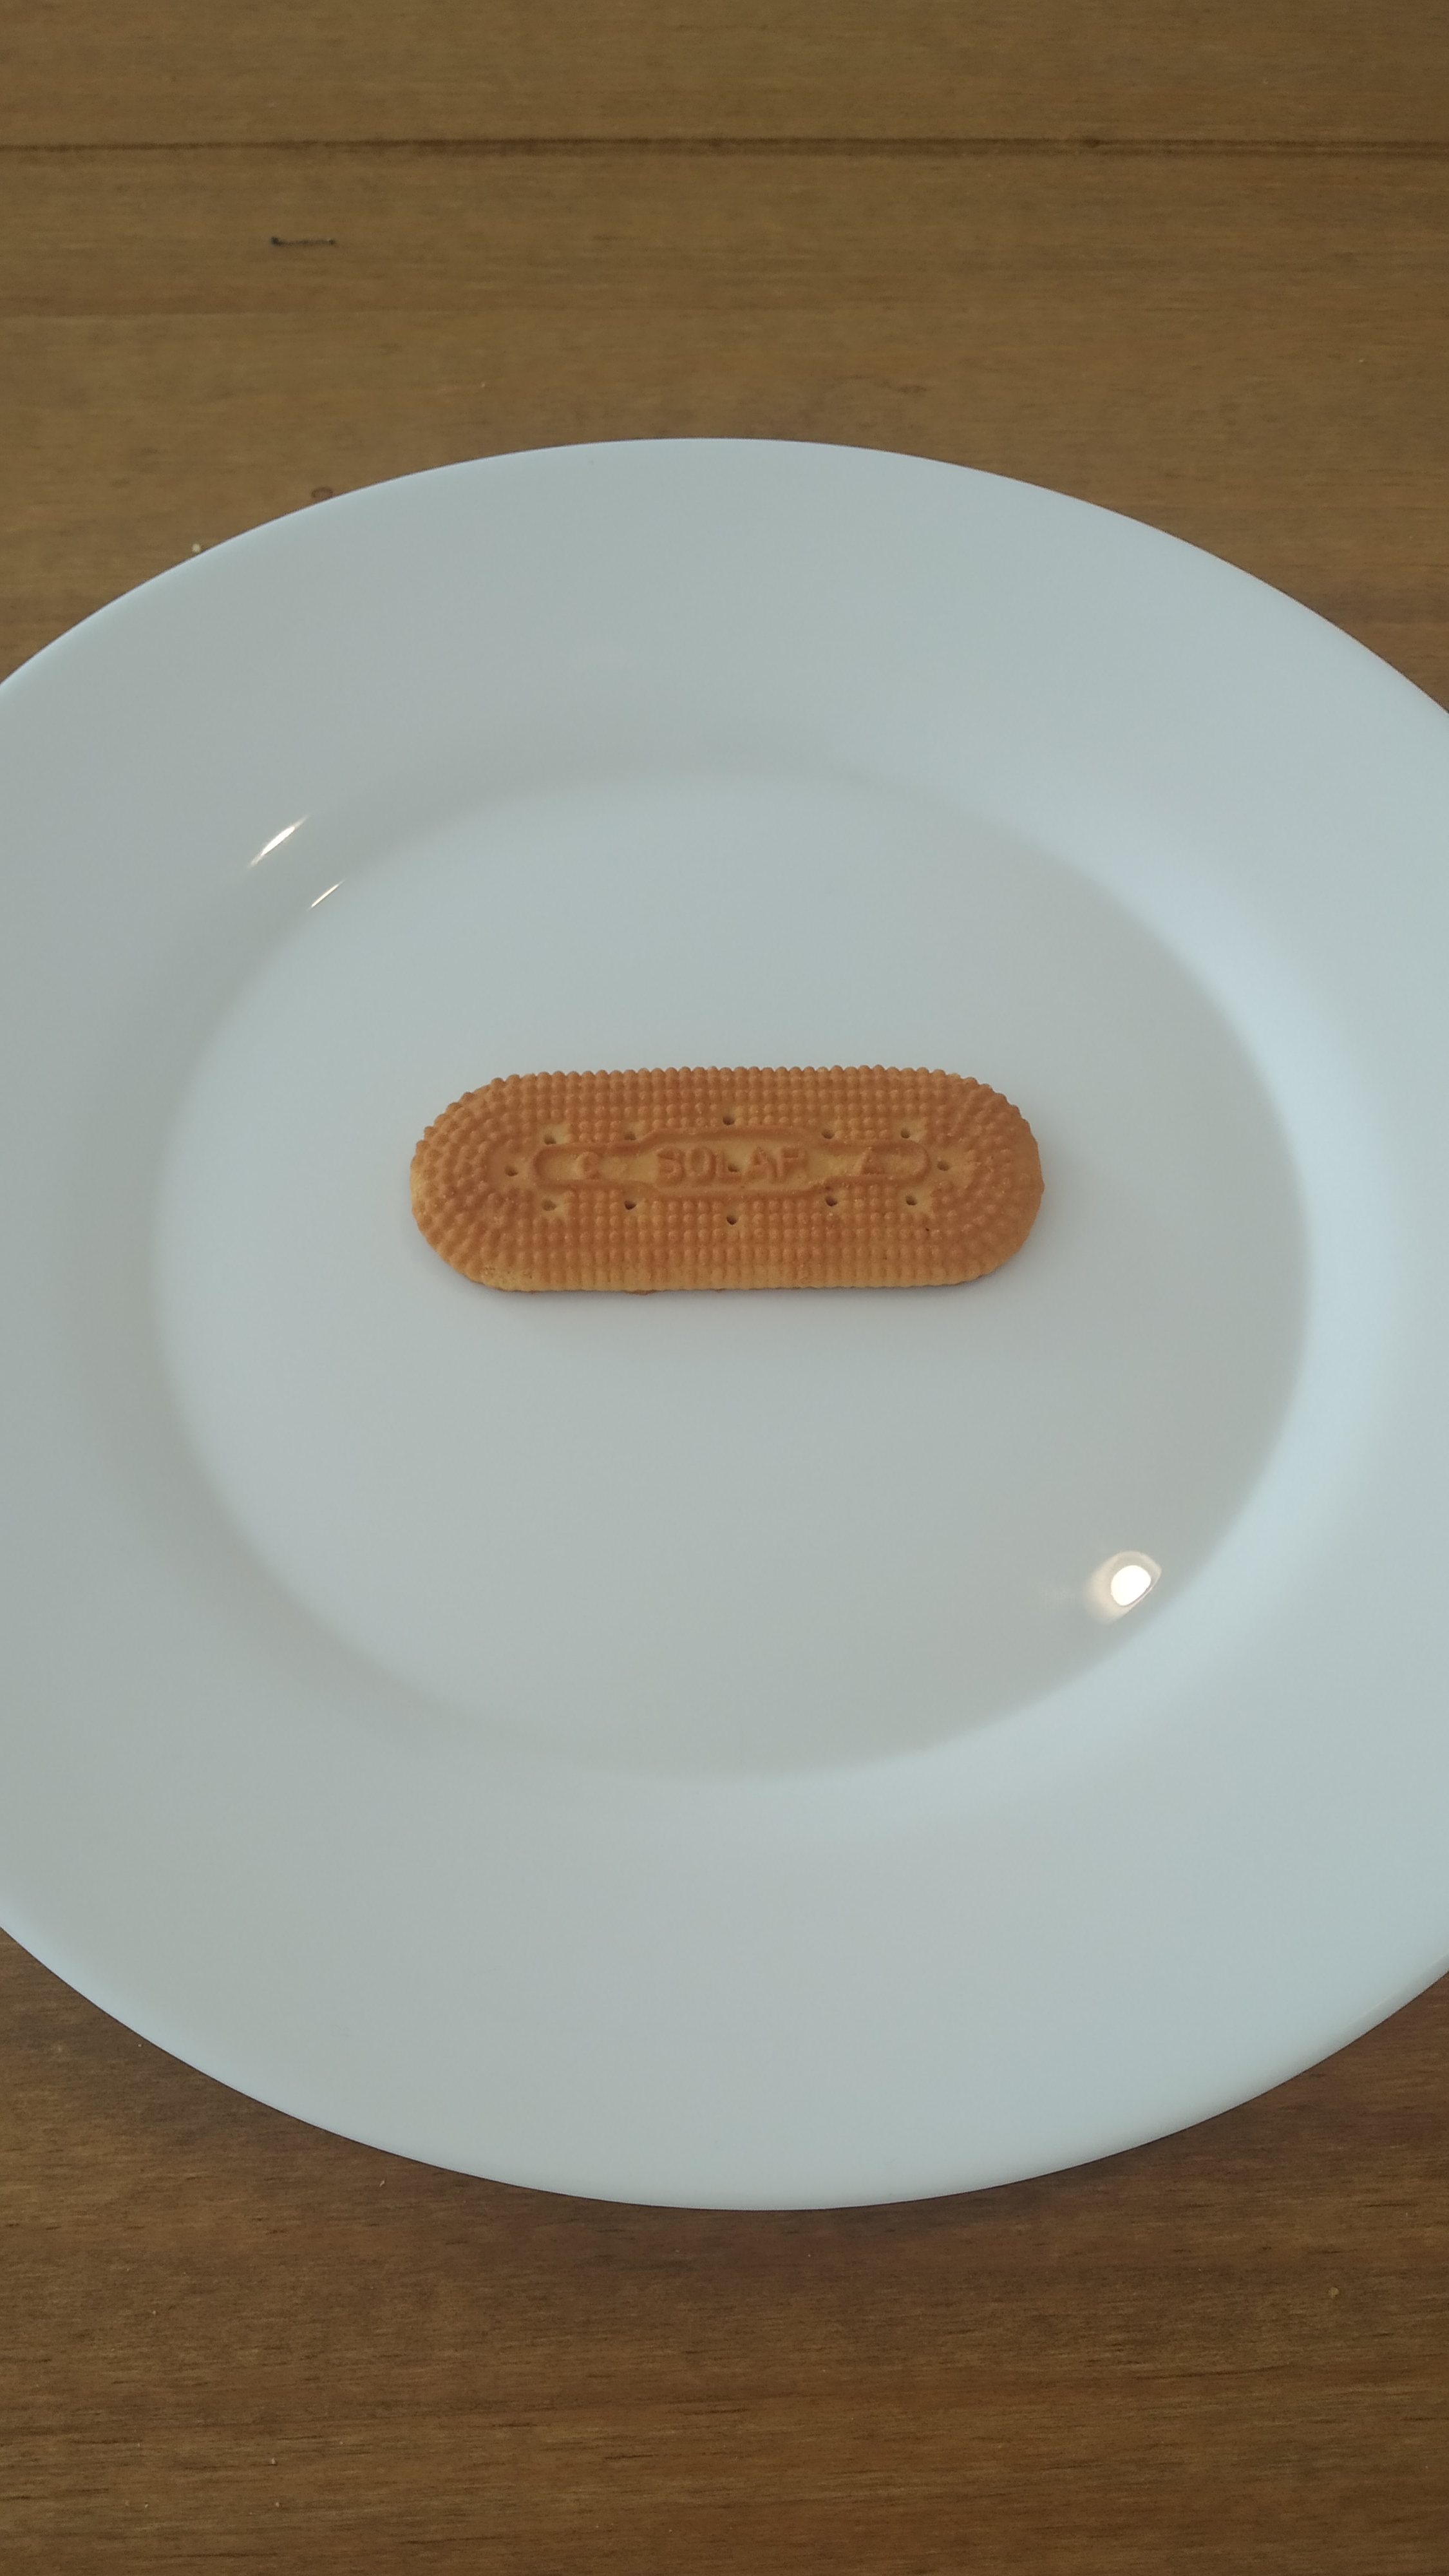solar: (410, 1067, 1046, 1295)
